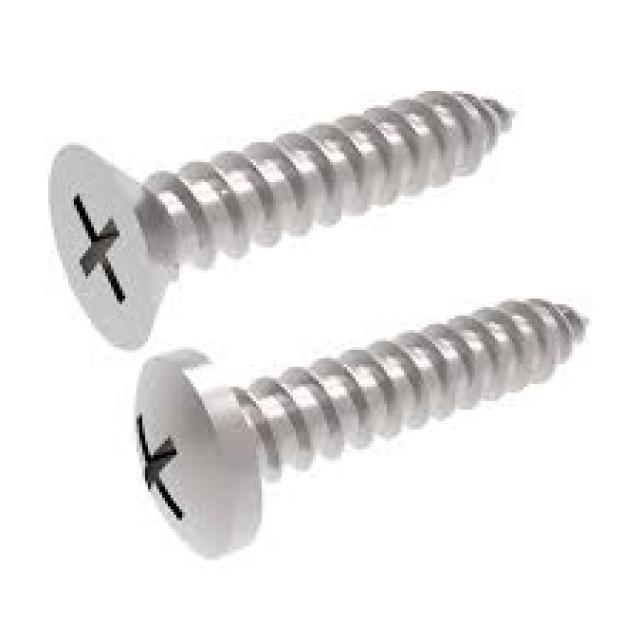Screw: (48, 91, 518, 353), (134, 299, 589, 560)
